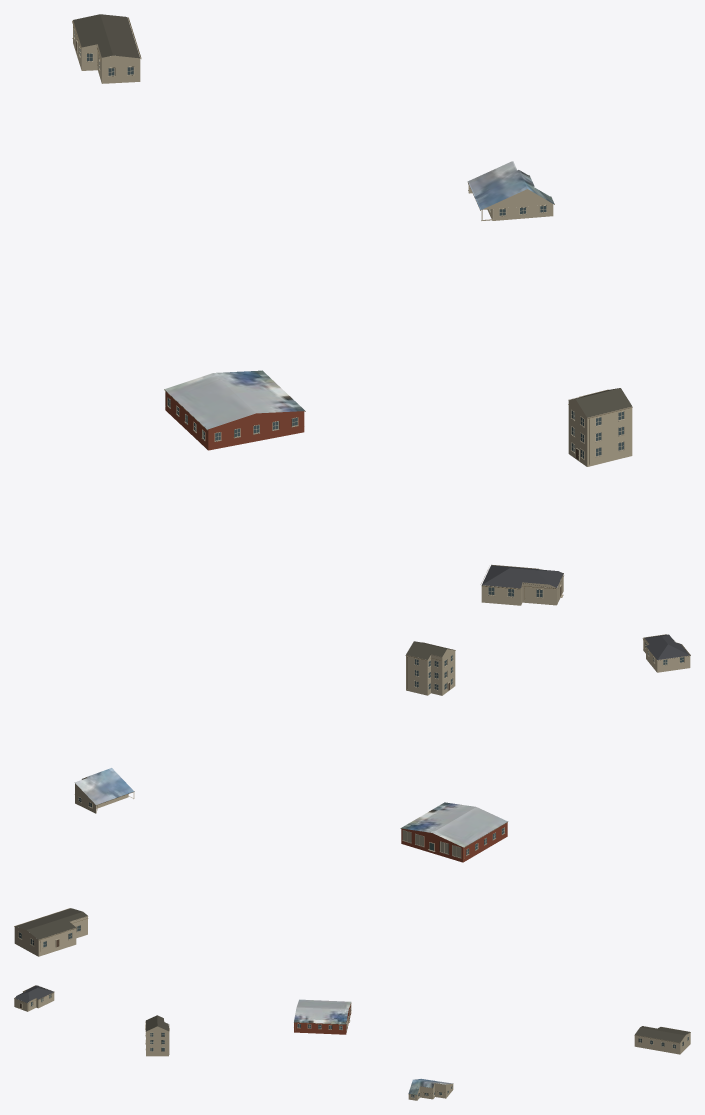
3 renders of one model, top to bottom at view 1: azimuth 30°, elevation 25°; view 2: azimuth 150°, elevation 25°; view 3: azimuth 270°, elevation 25°, orthographic. The views are drawn at different scales.
Visible parts, largest first — view 1: -1_17_638341586_1, -1_17_638343005_3, -1_17_638341587_2; view 2: -1_17_638341586_1, -1_17_638343005_3, -1_17_638341587_2; view 3: -1_17_638341586_1, -1_17_638343005_3, -1_17_638341587_2.
Part boxes in pixels (<box>): -1_17_638341586_1: <box>72,17,632,605</box>; -1_17_638343005_3: <box>73,14,632,596</box>; -1_17_638341587_2: <box>165,391,304,450</box>; -1_17_638341586_1: <box>14,634,690,956</box>; -1_17_638343005_3: <box>15,634,689,947</box>; -1_17_638341587_2: <box>401,822,507,862</box>; -1_17_638341586_1: <box>14,985,690,1100</box>; -1_17_638343005_3: <box>15,985,690,1042</box>; -1_17_638341587_2: <box>294,1003,351,1034</box>.
Size of the model in its own units: 108 by 22.35 by 273.
13 materials, 1 textured.
